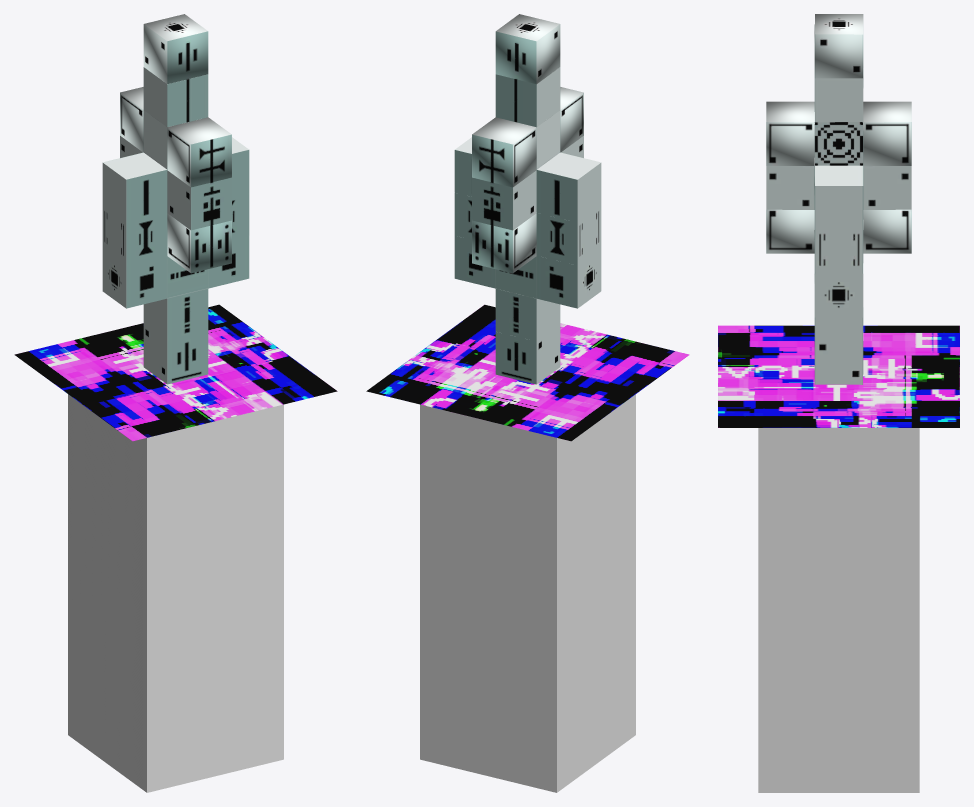
The model's file is Monolith_Act3.glb.
The picture shows the model from 3 angles, left to right: view 1: azimuth 30°, elevation 25°; view 2: azimuth 150°, elevation 25°; view 3: azimuth 270°, elevation 25°; orthographic projection. The views are drawn at different scales.
Parts seen in each view (by area): view 1: Cube, Cube_Monolith (×16), GlitchEffect; view 2: Cube, Cube_Monolith (×16), GlitchEffect; view 3: Cube, Cube_Monolith (×14), GlitchEffect.
Part boxes in pixels (x1,y1,x2,y2): Cube: [68, 394, 283, 792]; Cube_Monolith (×16): [102, 14, 249, 384]; GlitchEffect: [14, 304, 337, 441]; Cube: [420, 394, 635, 792]; Cube_Monolith (×16): [454, 14, 601, 384]; GlitchEffect: [366, 304, 689, 441]; Cube: [758, 428, 919, 792]; Cube_Monolith (×14): [766, 14, 911, 384]; GlitchEffect: [718, 325, 959, 427].
Size of the model in its own units: 3 by 10.05 by 3.
Materials: 6 (4 with a texture image).
